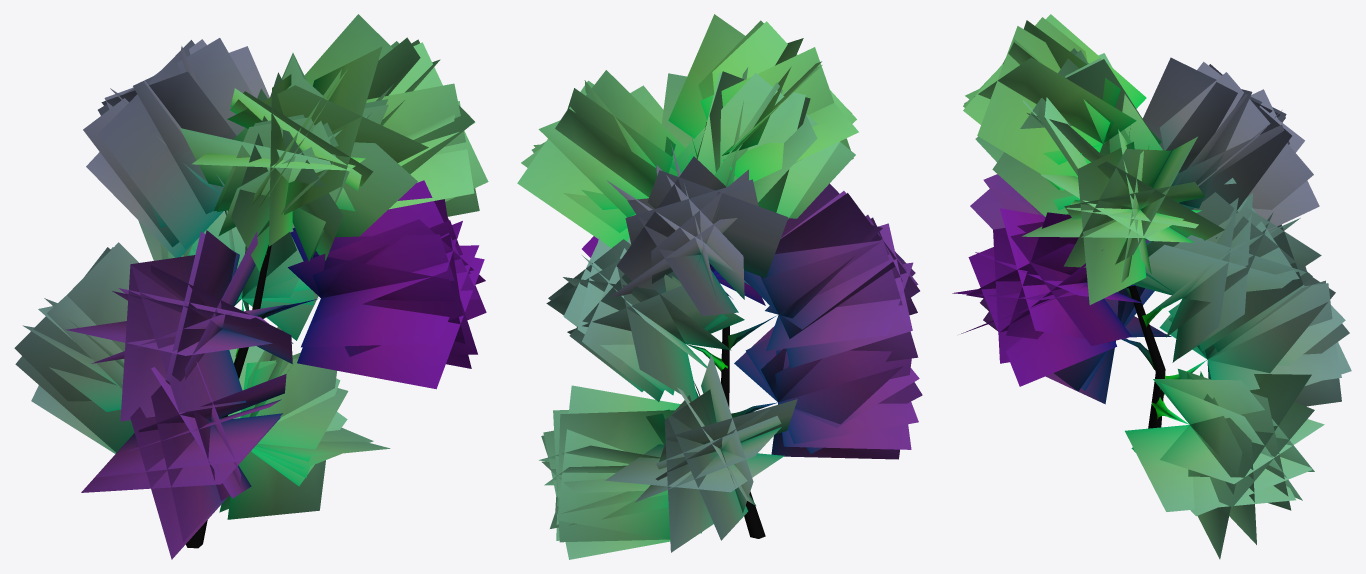
File: URP_P6_Tree_4_LOD_3.fbx
3 renders of one model, left to right at view 1: azimuth 30°, elevation 25°; view 2: azimuth 150°, elevation 25°; view 3: azimuth 270°, elevation 25°, orthographic. The views are drawn at different scales.
Visible parts, largest first — view 1: Tree_4_LOD_3; view 2: Tree_4_LOD_3; view 3: Tree_4_LOD_3.
Boxes of the visible parts, bbox=[...] form: Tree_4_LOD_3: bbox=[14, 14, 488, 559]; Tree_4_LOD_3: bbox=[517, 14, 922, 559]; Tree_4_LOD_3: bbox=[952, 14, 1351, 559].
Size of the model in its own units: 480 by 621 by 467.
